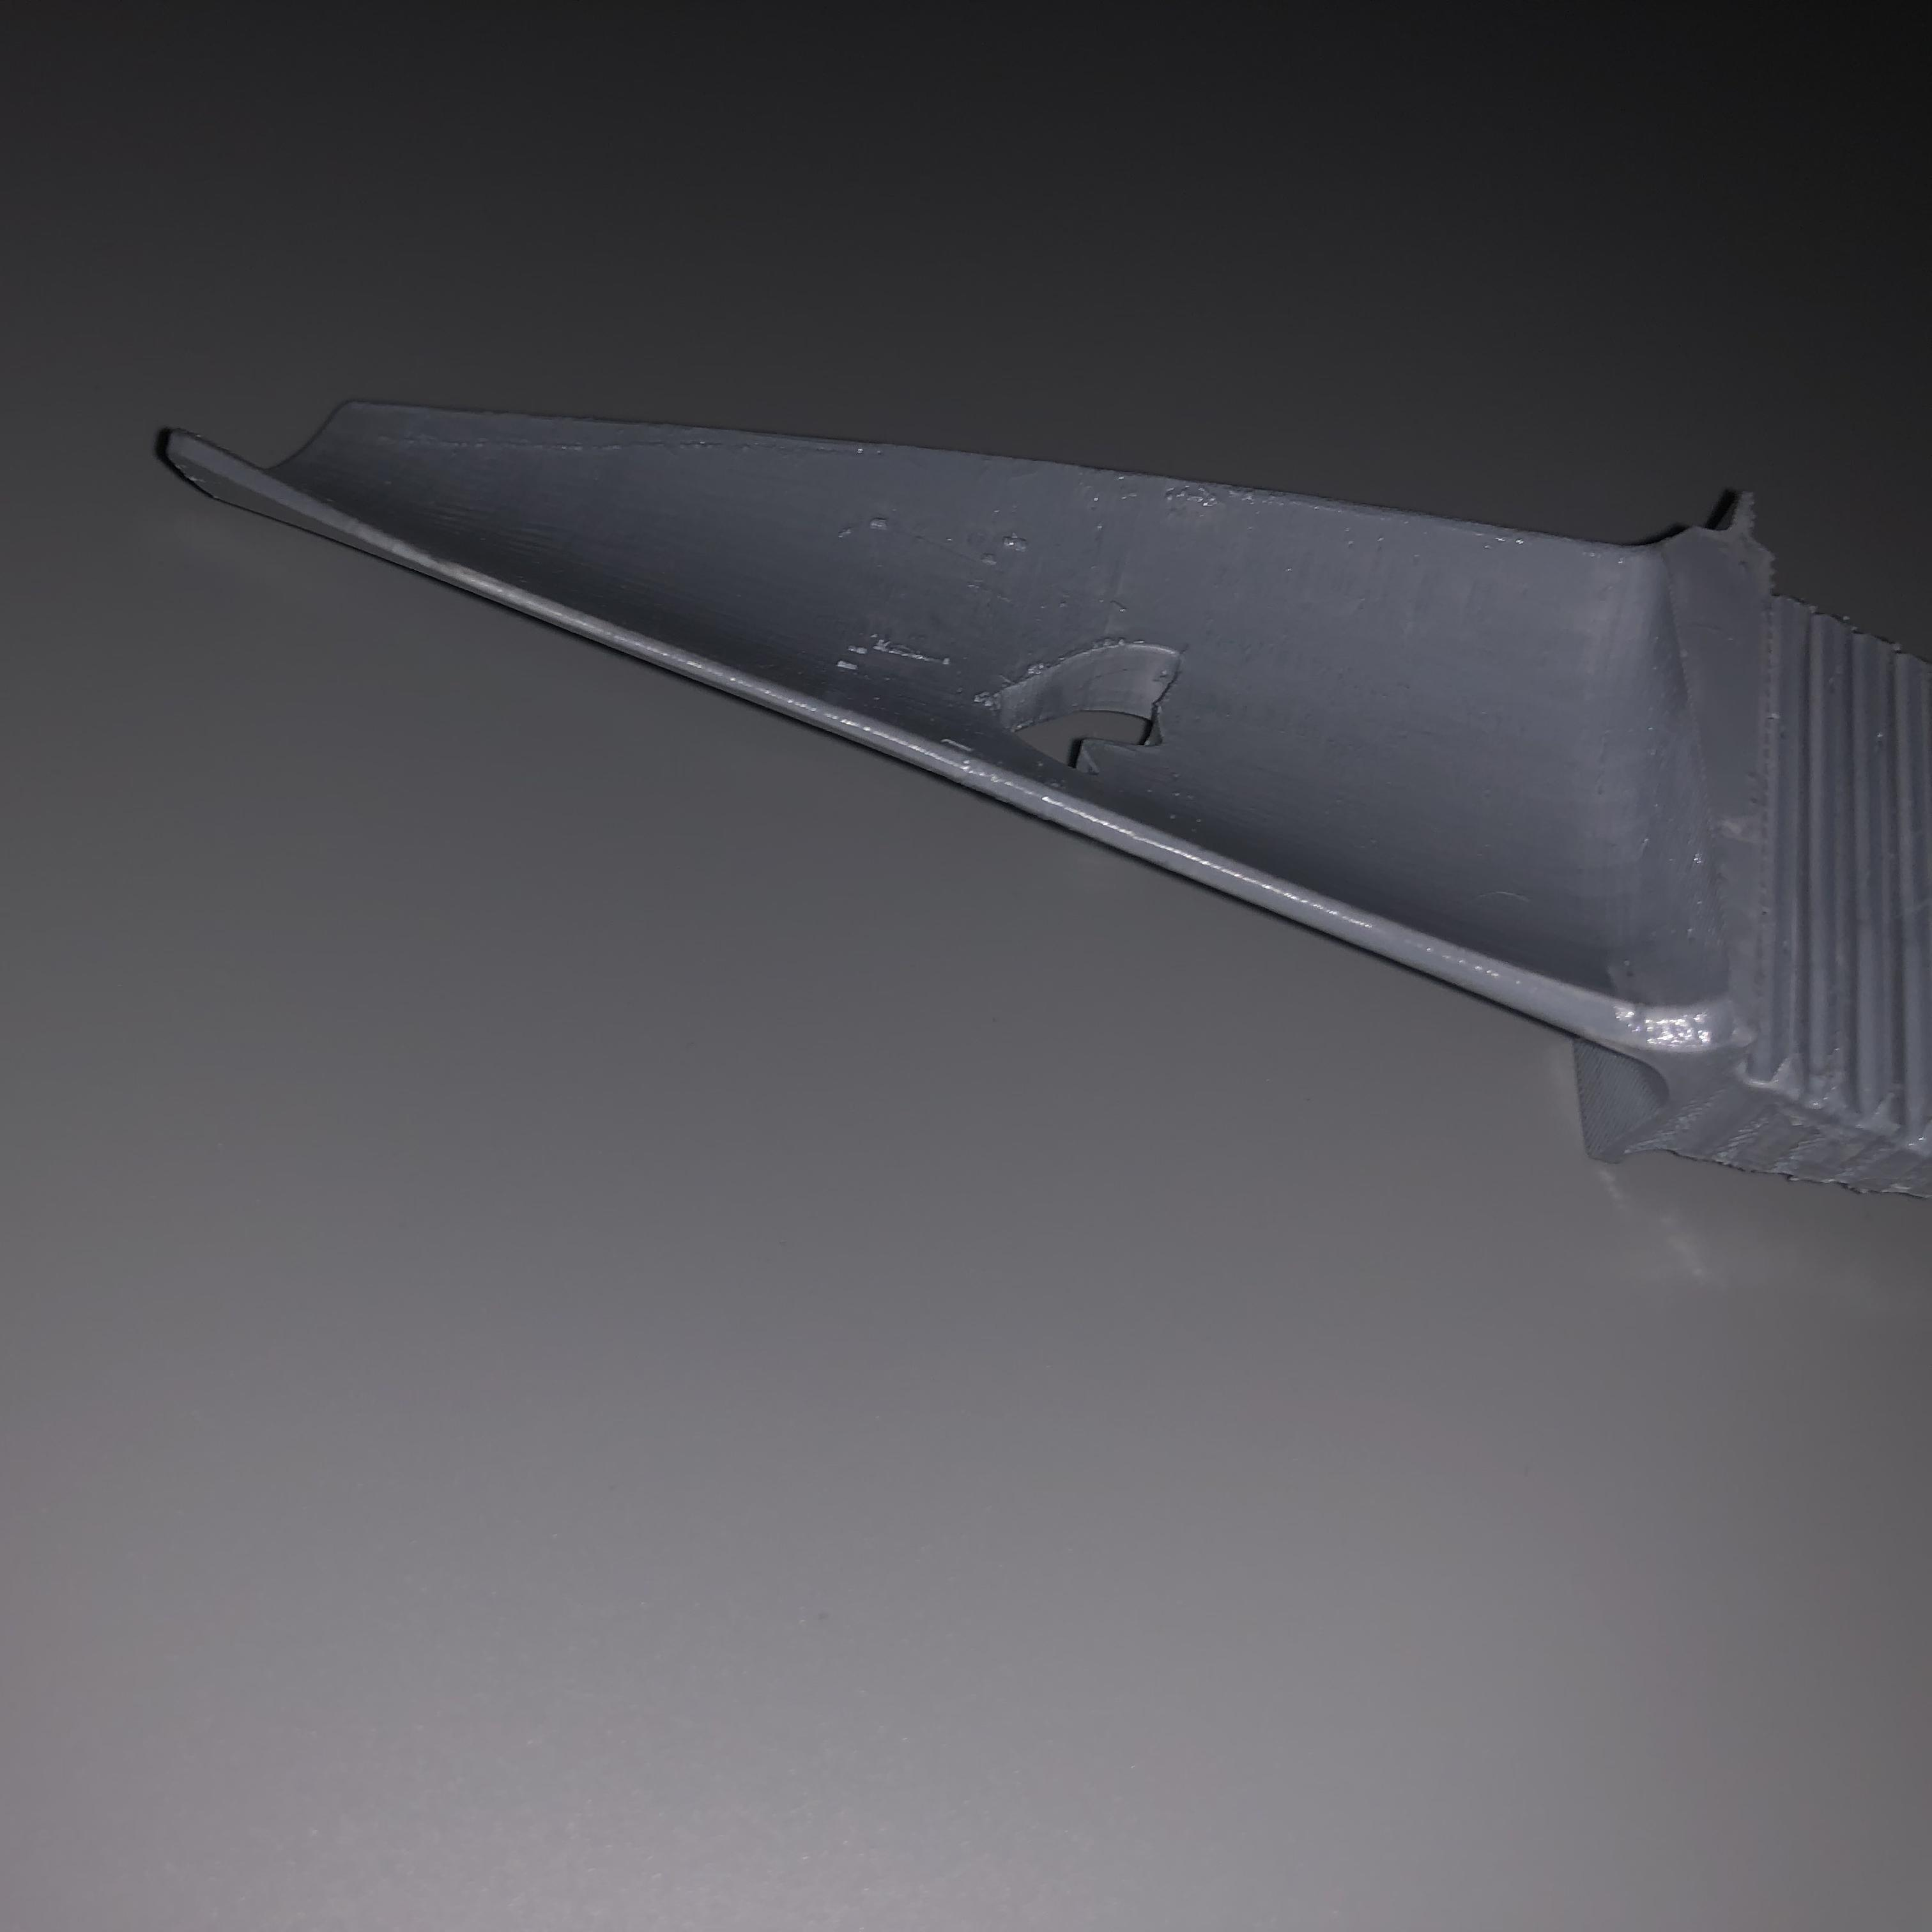breakdown: (978, 642, 1192, 777)
